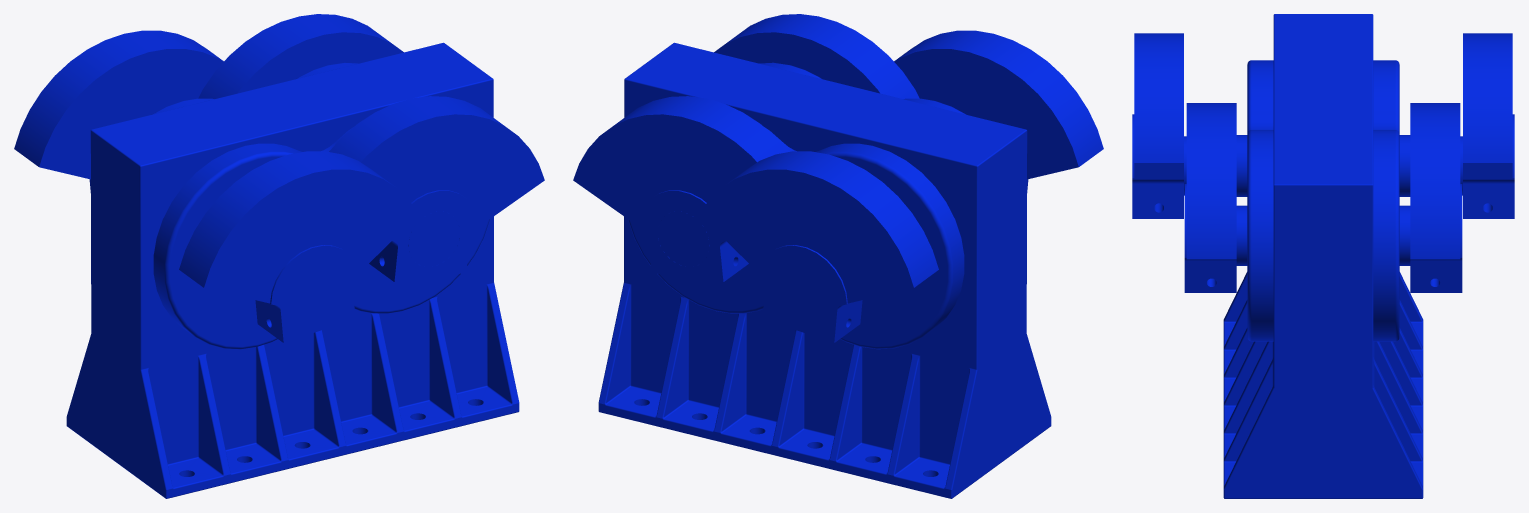
File: CajaMain.glb
3 views of the same model, side by side, from view 1: azimuth 30°, elevation 25°; view 2: azimuth 150°, elevation 25°; view 3: azimuth 270°, elevation 25° (orthographic).
Visible parts, largest first — view 1: Compound009; view 2: Compound009; view 3: Compound009.
Part boxes in pixels (<box>): Compound009: <box>14,14,544,498</box>; Compound009: <box>573,14,1103,498</box>; Compound009: <box>1132,14,1514,498</box>.
Bounding box in the file's own units: 1.02 × 0.8867 × 0.9212.
